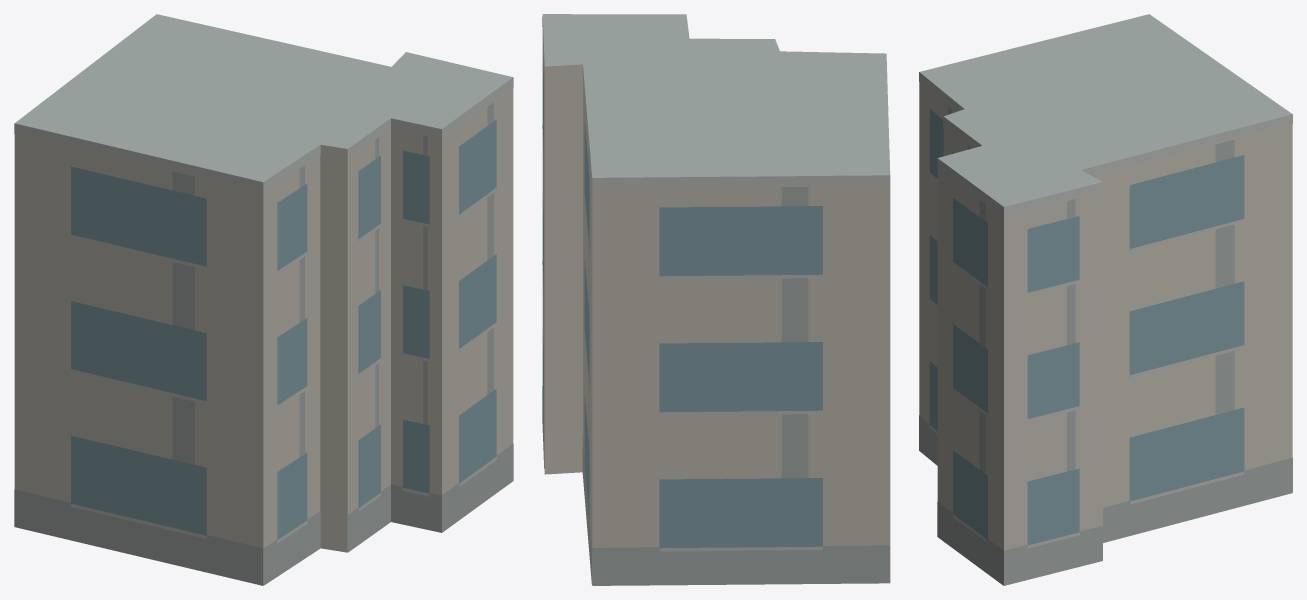
Rendered from survey-upis-32587346.glb.
3 renders of one model, left to right at view 1: azimuth 30°, elevation 25°; view 2: azimuth 150°, elevation 25°; view 3: azimuth 270°, elevation 25°, orthographic. The views are drawn at different scales.
Parts seen in each view (by area): view 1: survey-upis-32587346.tmp; view 2: survey-upis-32587346.tmp; view 3: survey-upis-32587346.tmp.
Boxes of the visible parts, x1,y1,x2,y2 form: survey-upis-32587346.tmp: (14,14,513,585); survey-upis-32587346.tmp: (542,14,890,585); survey-upis-32587346.tmp: (919,14,1292,585).
Bounding box in the file's own units: 10.01 × 9.15 × 8.18.
